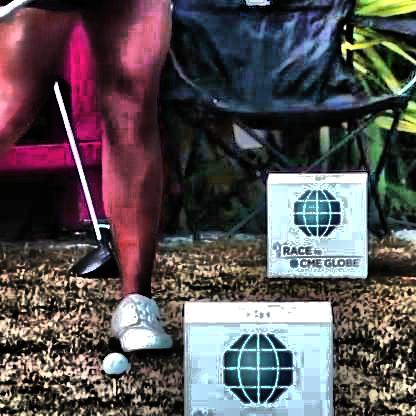golfball: (98, 350, 126, 376)
